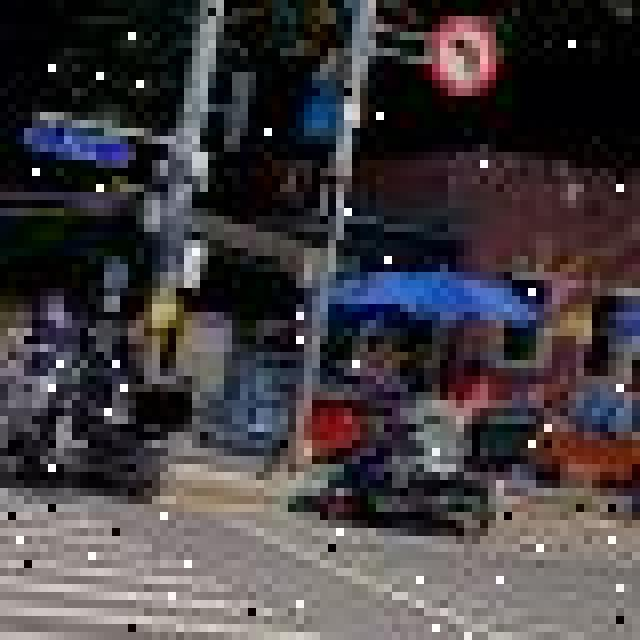crosswalk: (0, 520, 256, 632)
